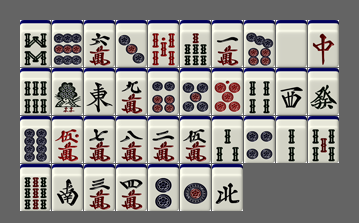0m: (52, 116, 83, 163)
0p: (212, 68, 243, 115)
0s: (148, 20, 179, 67)
1m: (212, 20, 243, 67)
1p: (180, 164, 211, 211)
1s: (52, 68, 83, 115)
1z: (84, 68, 115, 115)
2m: (148, 116, 179, 163)
2p: (148, 164, 179, 211)
2s: (276, 116, 307, 163)
2z: (52, 164, 83, 211)
3m: (84, 164, 115, 211)
3p: (116, 20, 147, 67)
3s: (212, 116, 243, 163)
3z: (276, 68, 307, 115)
4m: (116, 164, 147, 211)
4p: (244, 116, 275, 163)
4s: (244, 68, 275, 115)
4z: (212, 164, 243, 211)
5m: (180, 116, 211, 163)
5p: (180, 68, 211, 115)
5s: (308, 116, 339, 163)
5z: (276, 20, 307, 67)
6m: (84, 20, 115, 67)
6p: (148, 68, 179, 115)
6s: (20, 68, 51, 115)
6z: (308, 68, 339, 115)
7m: (84, 116, 115, 163)
7p: (244, 20, 275, 67)
7s: (180, 20, 211, 67)
7z: (308, 20, 339, 67)
8m: (116, 116, 147, 163)
8p: (20, 116, 51, 163)
8s: (20, 20, 51, 67)
9m: (116, 68, 147, 115)
9p: (52, 20, 83, 67)
9s: (20, 164, 51, 211)
